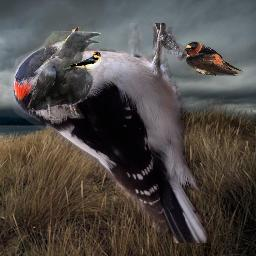Crow: (27, 31, 101, 120)
Swallow: (184, 41, 243, 76), (62, 51, 101, 71)
Woodpecker: (9, 23, 210, 243)
